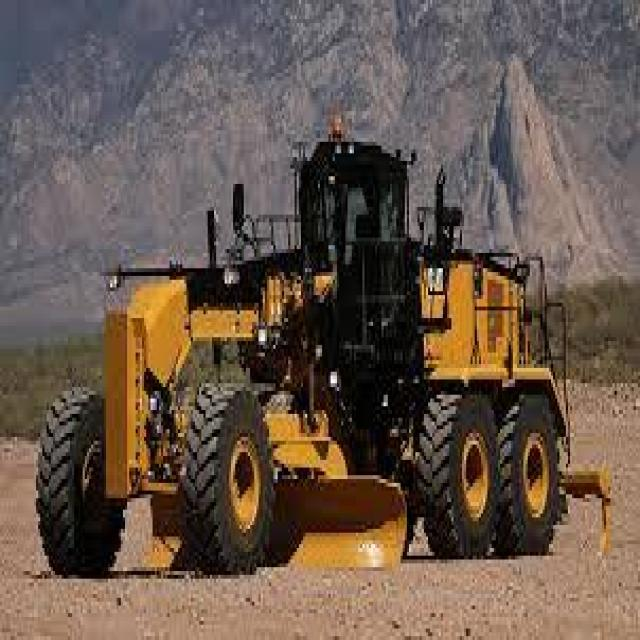buldozerpayloadergrader: (38, 126, 638, 617)
